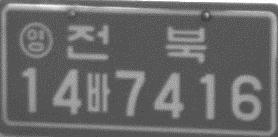1: (15, 66, 46, 113), (196, 72, 226, 120)
4: (152, 71, 184, 118), (51, 68, 81, 115)
6: (231, 73, 262, 121)
7: (114, 68, 146, 118)
바: (85, 72, 110, 112)
영: (18, 21, 53, 59)
전북_D: (65, 23, 208, 64)
